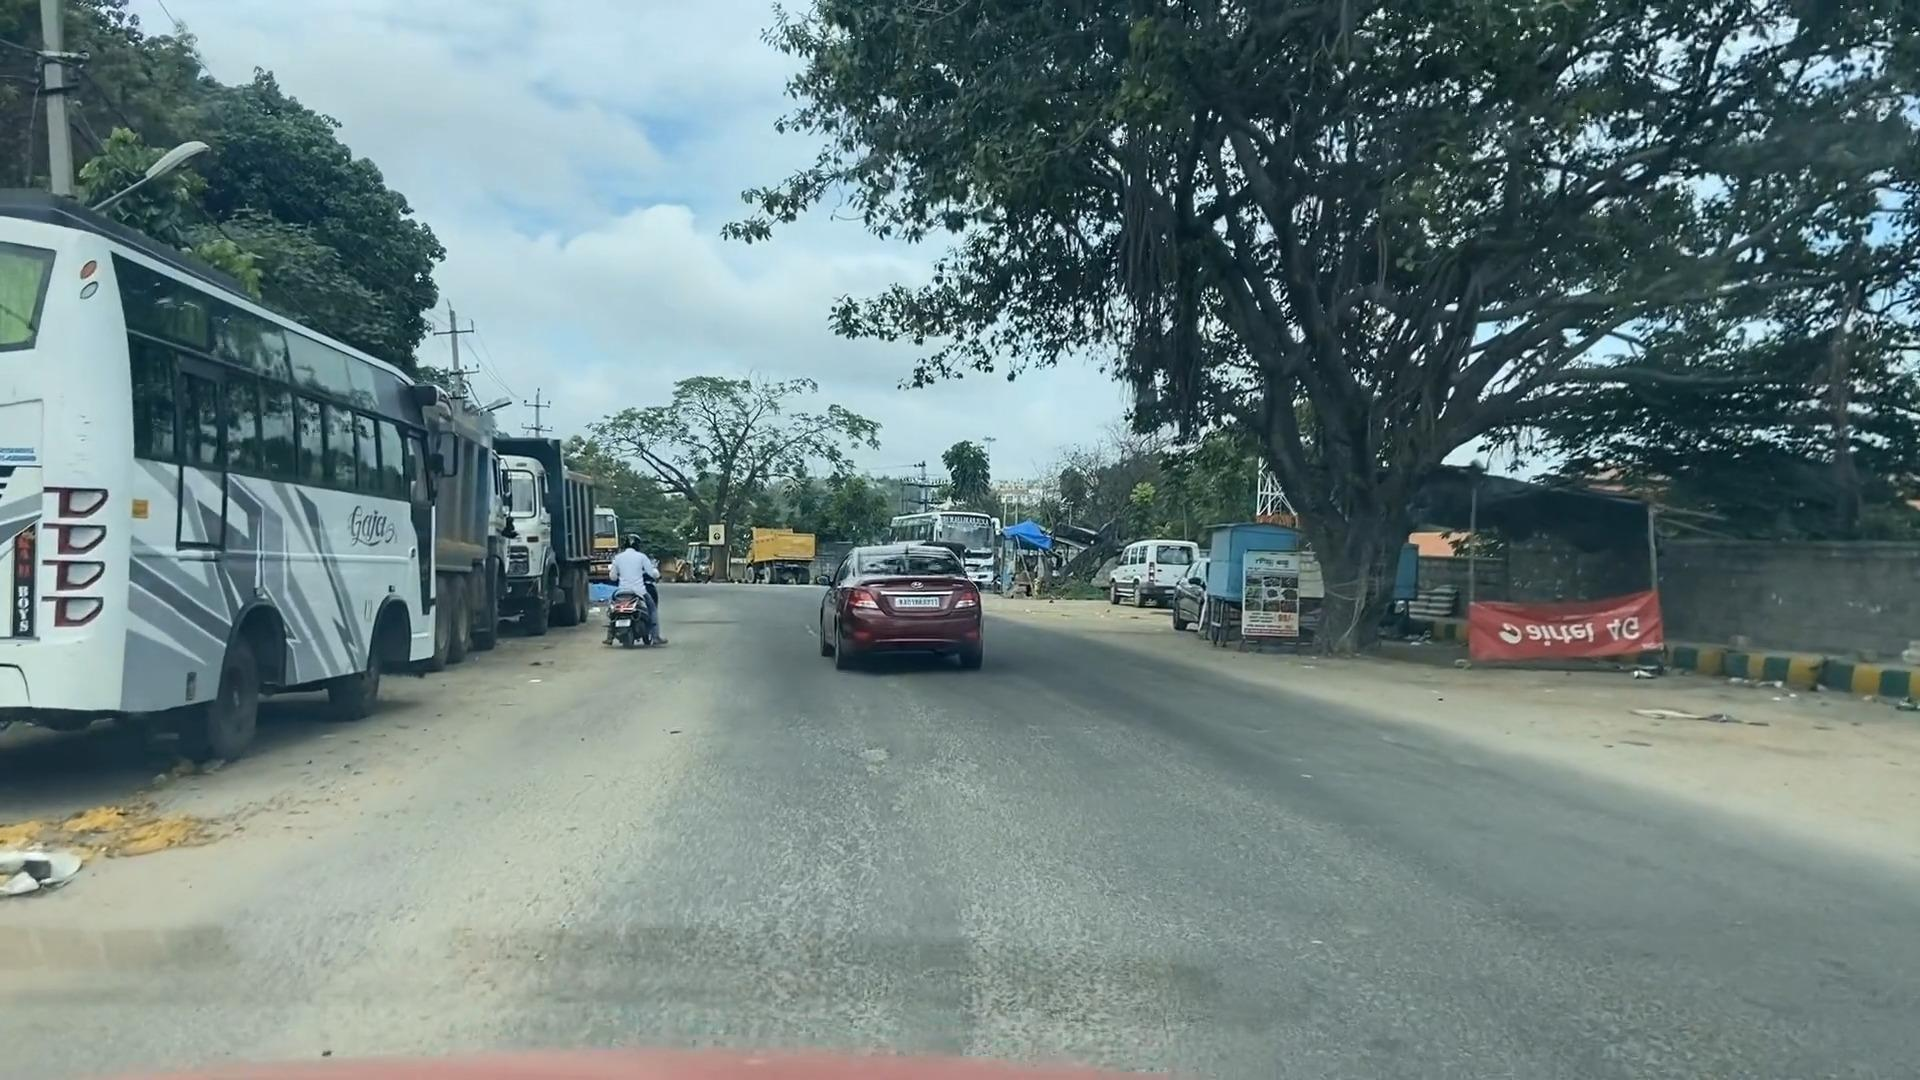HMV: (0, 223, 508, 782), (1101, 522, 1197, 618), (728, 516, 822, 593)
LMV: (811, 527, 1006, 708), (582, 520, 671, 684)
